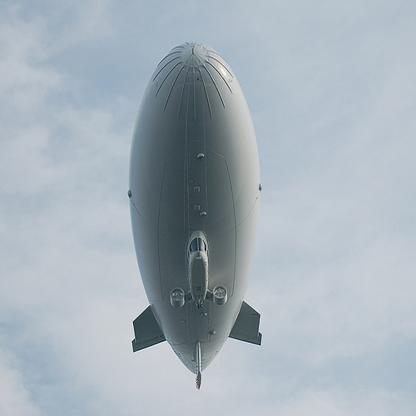Airship: (125, 39, 269, 390)
